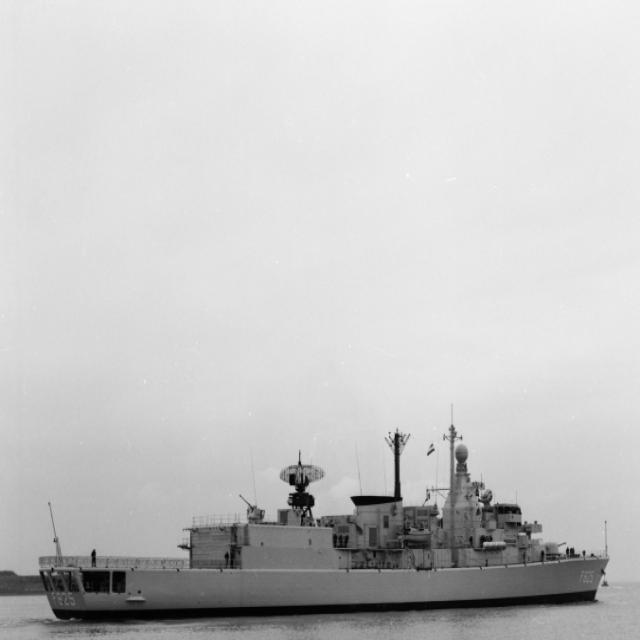Fragata: (39, 396, 615, 621)
